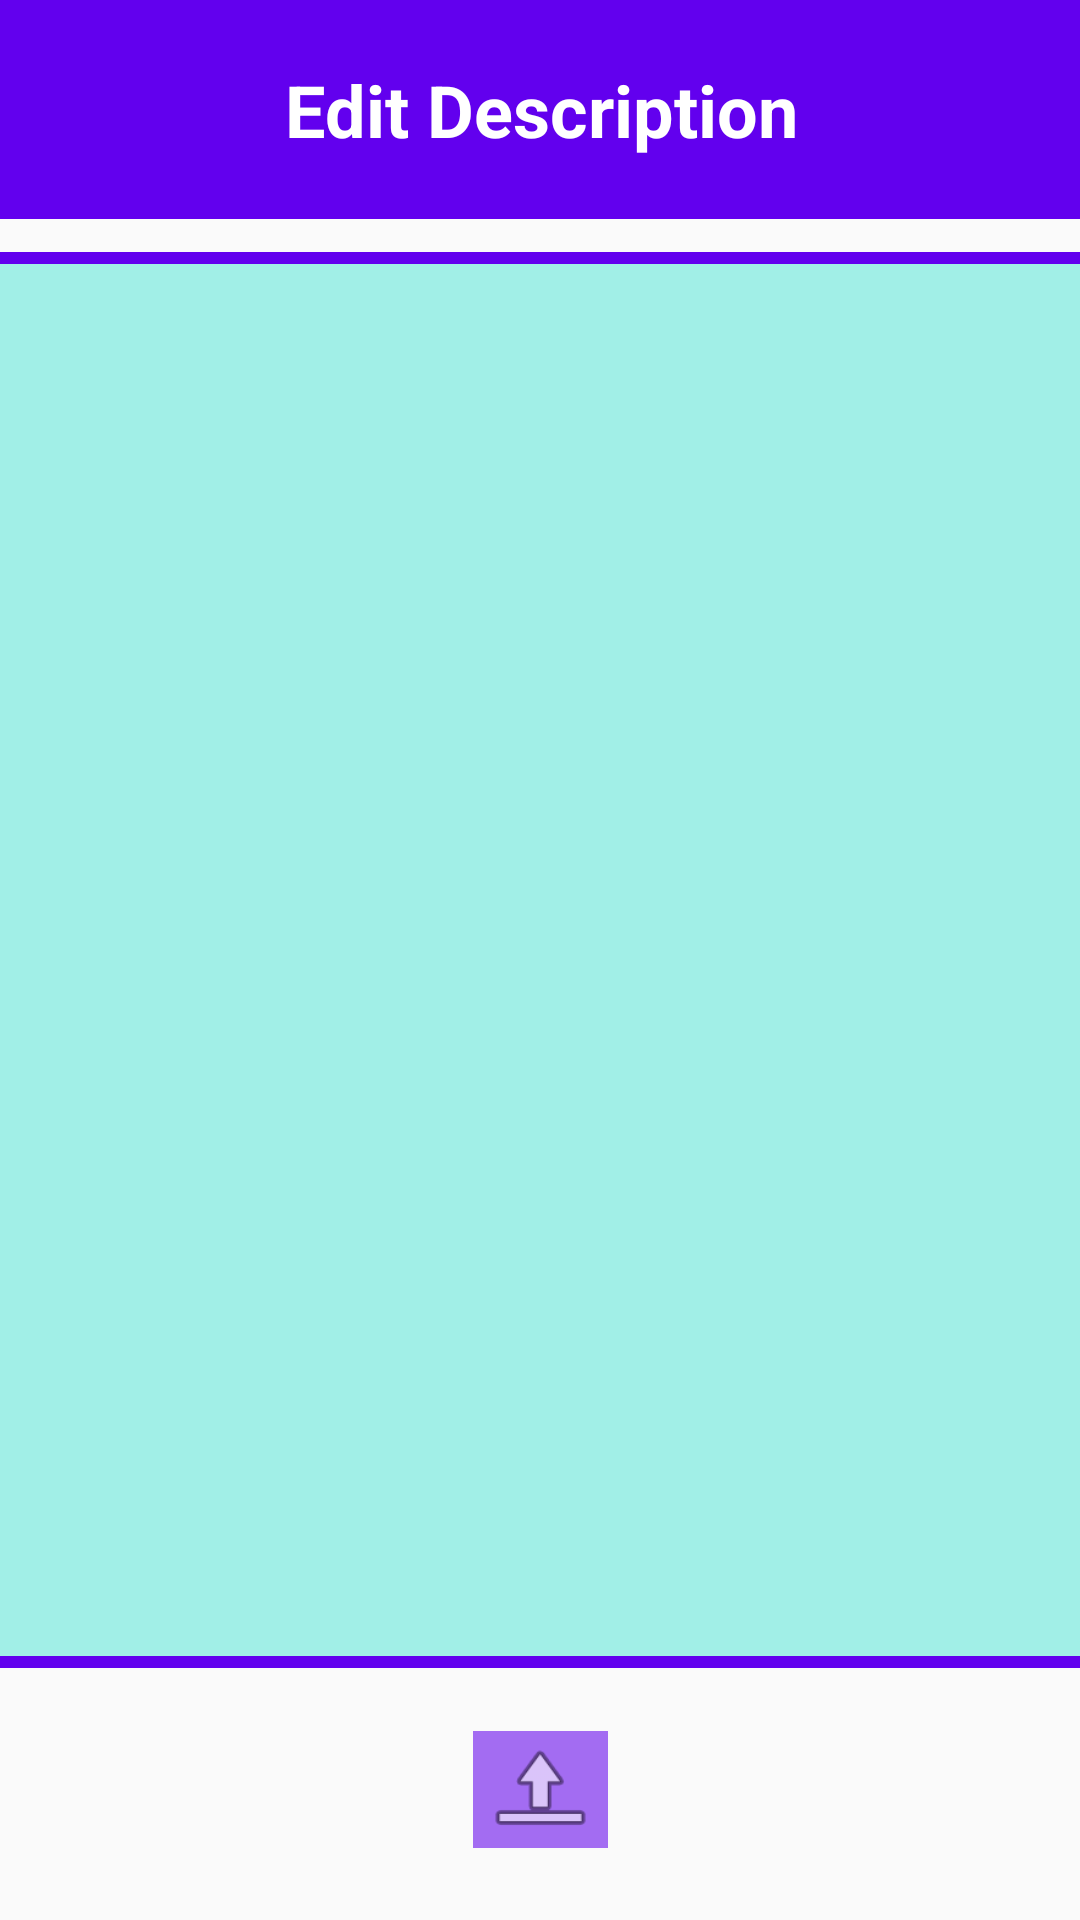

Point at icon controls on the screen. Image size 1080 × 1920, points as (x,y).
upload: (540,1789)
